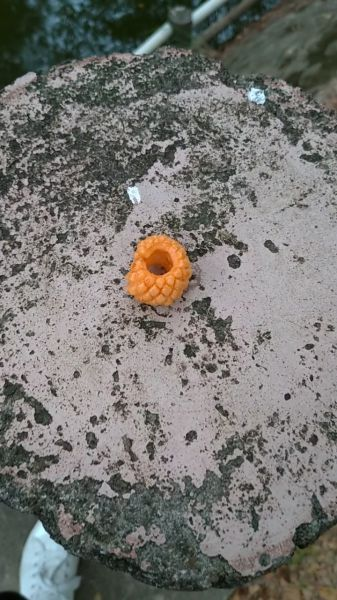eggs: (120, 228, 199, 313)
